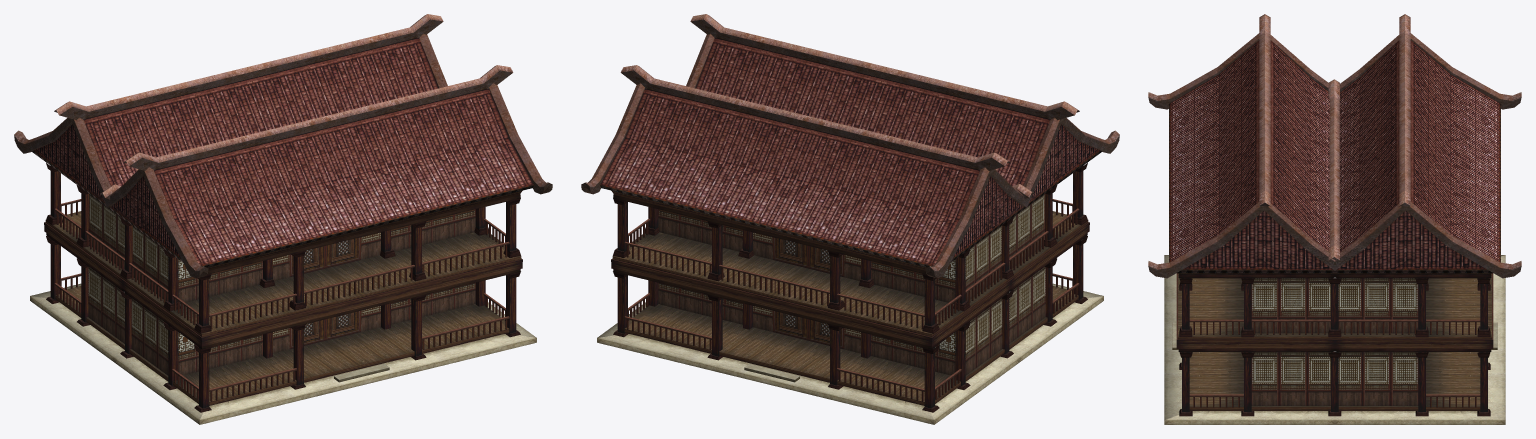
Rendered from a1-033-guesthouse-01.fbx.
The picture shows the model from 3 angles, left to right: view 1: azimuth 30°, elevation 25°; view 2: azimuth 150°, elevation 25°; view 3: azimuth 270°, elevation 25°; orthographic projection.
Parts seen in each view (by area): view 1: 033-01; view 2: 033-01; view 3: 033-01.
Boxes of the visible parts, bbox=[...] form: 033-01: bbox=[14, 14, 552, 424]; 033-01: bbox=[581, 14, 1119, 424]; 033-01: bbox=[1148, 14, 1521, 424].
Bounding box in the file's own units: 21.33 × 12.64 × 17.86.
